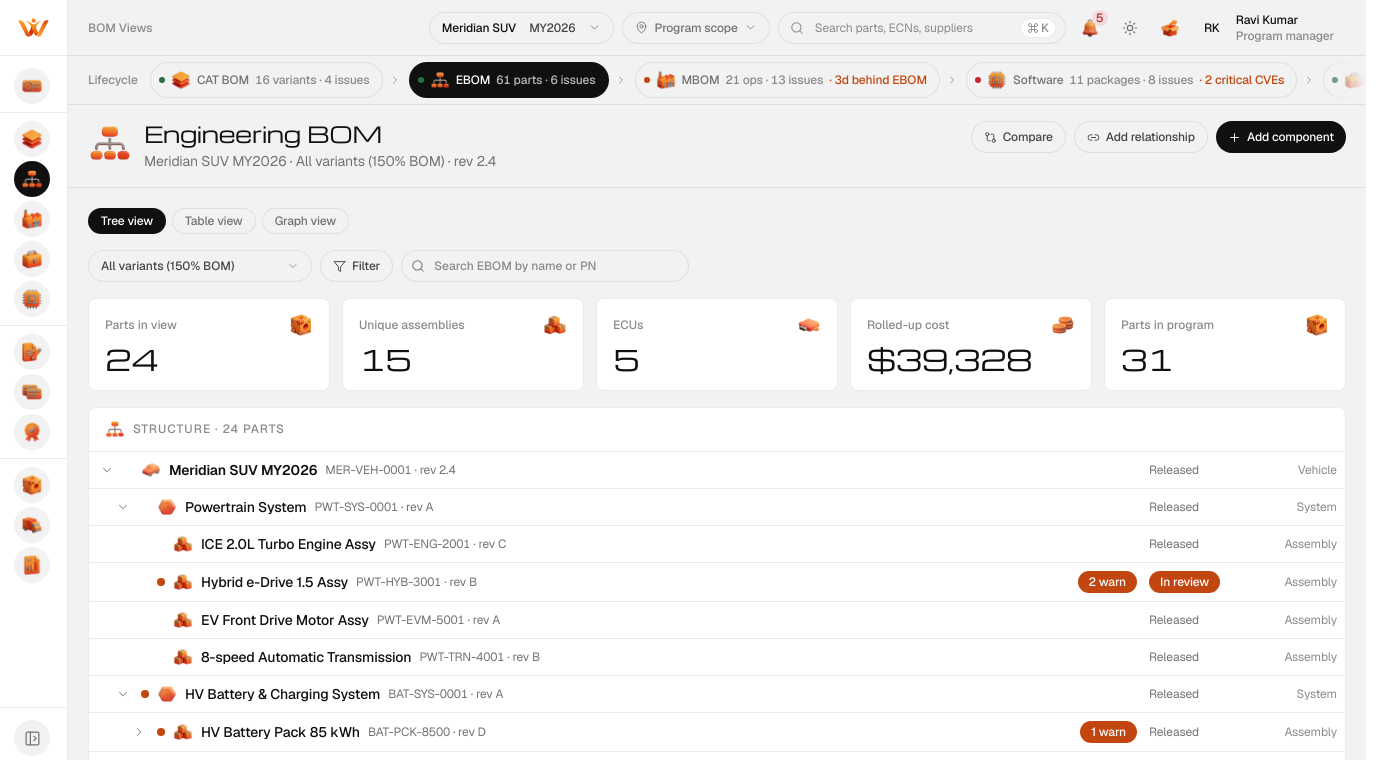
it: plural › EBOM structure title says '1 Part' for a single match
Type "Battery Management" into the field with placeholder "Search EBOM by name or PN" at (545, 266), box [401,250,689,282]
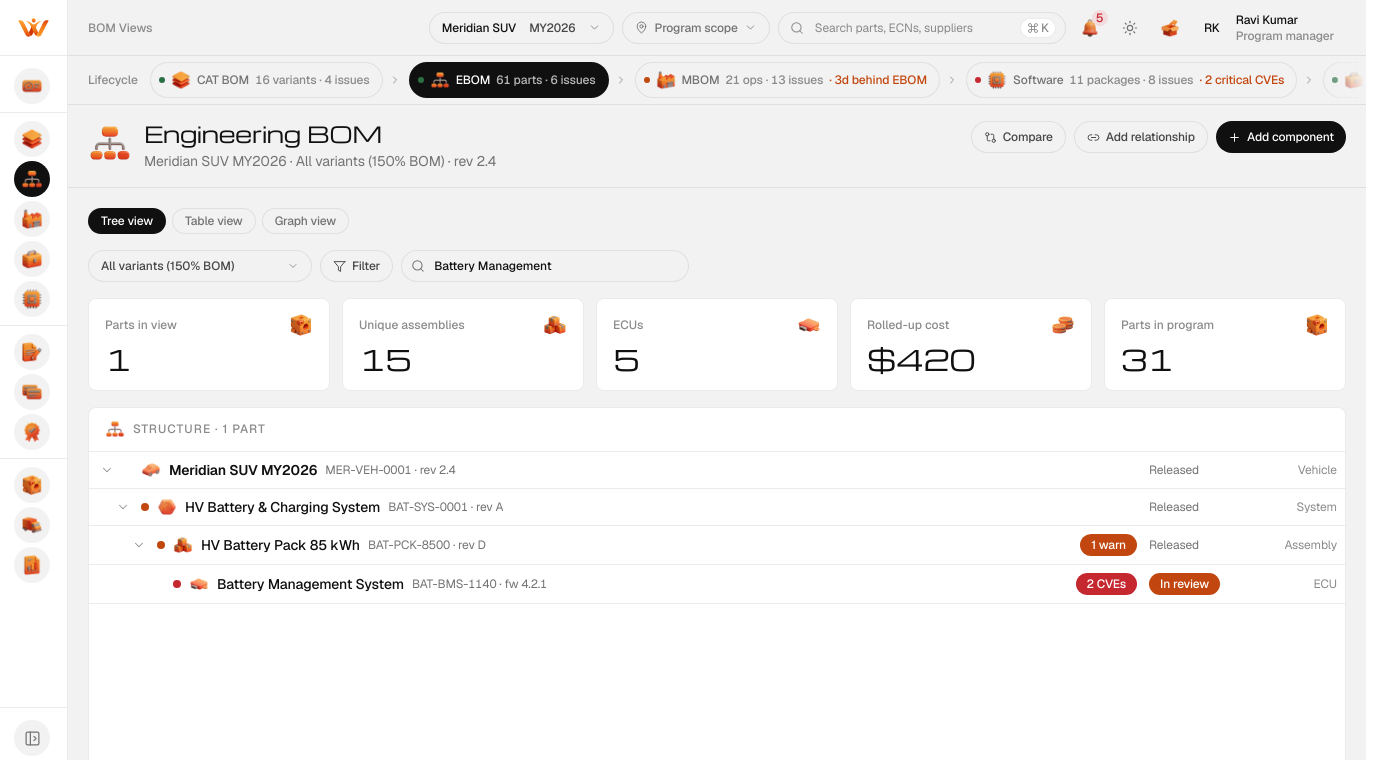
Expected: the text "Structure · 1 Part" is shown, [133,421,266,437]
